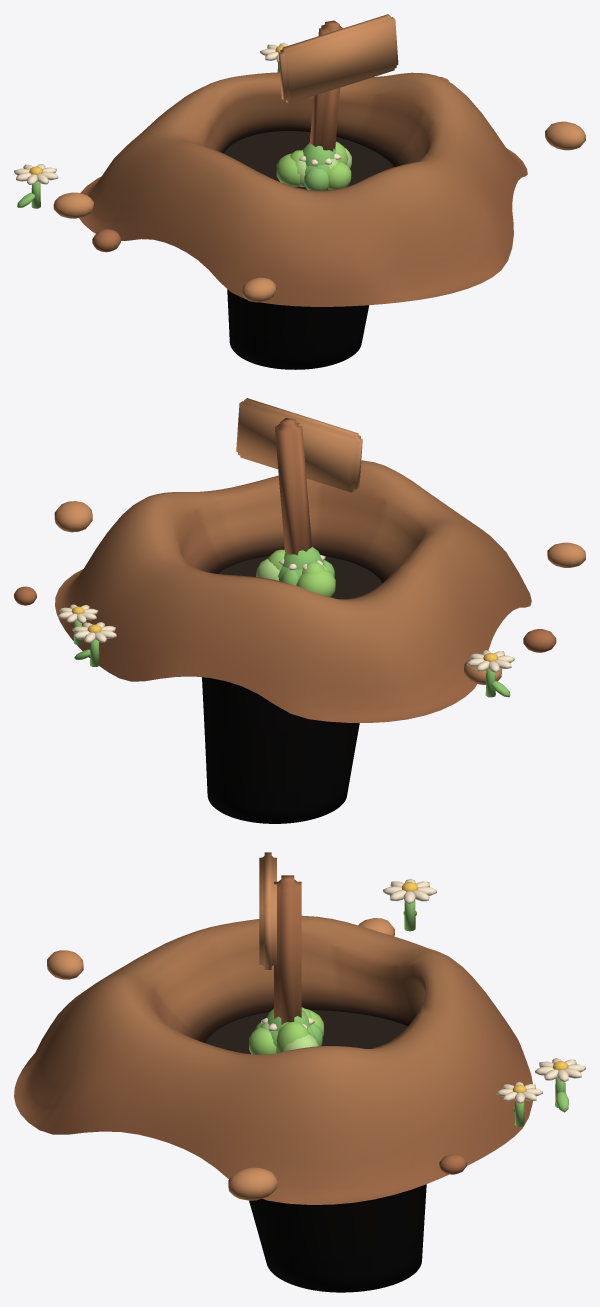
File: ground_props_v1.glb
3 views of the same model, one above another, from view 1: azimuth 30°, elevation 25°; view 2: azimuth 150°, elevation 25°; view 3: azimuth 270°, elevation 25° (orthographic). The views are drawn at different scales.
Parts seen in each view (by area): view 1: burrow_mound, signpost, burrow, burrow_ground_mask, grass_tuft_03, grass_tuft_01; view 2: burrow_mound, signpost, burrow, burrow_ground_mask, grass_tuft_03, grass_tuft_01; view 3: burrow_mound, burrow, signpost, burrow_ground_mask, grass_tuft_03, grass_tuft_01.
Boxes of the visible parts, x1=… form: burrow_mound: x1=79, y1=72, x2=527, y2=369; signpost: x1=278, y1=14, x2=398, y2=151; burrow: x1=14, y1=42, x2=585, y2=302; burrow_ground_mask: x1=224, y1=131, x2=394, y2=190; grass_tuft_03: x1=276, y1=148, x2=351, y2=190; grass_tuft_01: x1=290, y1=141, x2=348, y2=169; burrow_mound: x1=55, y1=460, x2=531, y2=823; signpost: x1=236, y1=398, x2=362, y2=555; burrow: x1=14, y1=501, x2=585, y2=697; burrow_ground_mask: x1=218, y1=556, x2=382, y2=599; grass_tuft_03: x1=256, y1=558, x2=335, y2=597; grass_tuft_01: x1=268, y1=546, x2=324, y2=574; burrow_mound: x1=14, y1=915, x2=532, y2=1292; burrow: x1=47, y1=878, x2=585, y2=1200; signpost: x1=259, y1=852, x2=301, y2=1024; burrow_ground_mask: x1=205, y1=1010, x2=407, y2=1054; grass_tuft_03: x1=249, y1=1009, x2=323, y2=1054; grass_tuft_01: x1=260, y1=1007, x2=311, y2=1052.
Size of the model in its own units: 3.41 by 2.31 by 2.9.
